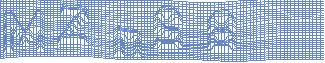8: (206, 7, 238, 55)
M: (1, 8, 47, 56)
S: (151, 3, 185, 50)
Z: (57, 4, 94, 47)
n: (112, 23, 145, 58)
